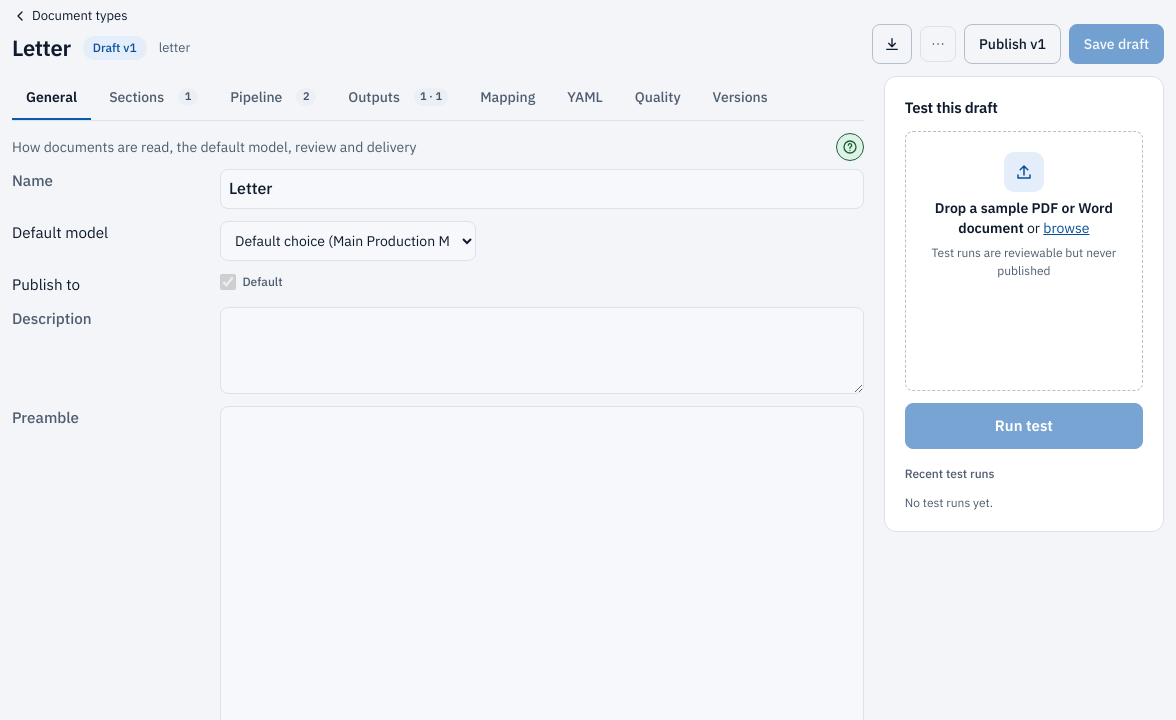
Test case: TemplateEditor › adds the GitHub push outcome to the publish status line
This screenshot has width=1176, height=720.
Click the button "Publish v1": (1012, 44) x1=964 y1=24 x2=1061 y2=64
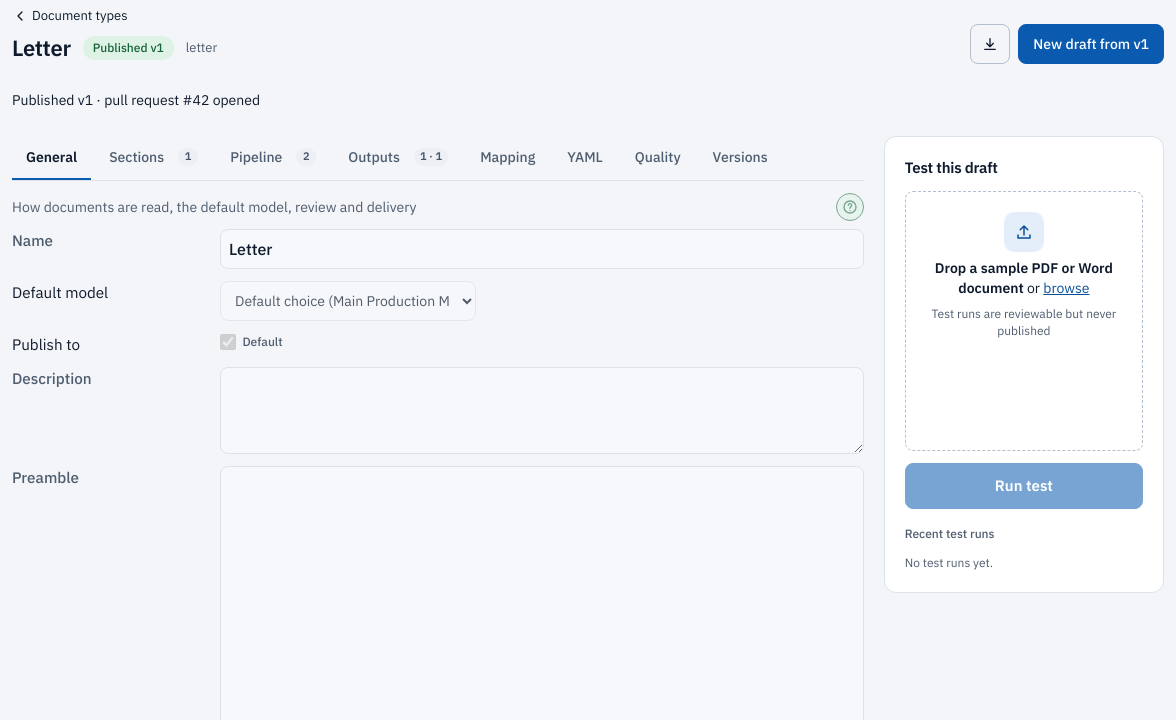
Result: the text "Published v1 · pull request #42 opened" is shown at x1=12 y1=91 x2=260 y2=109
